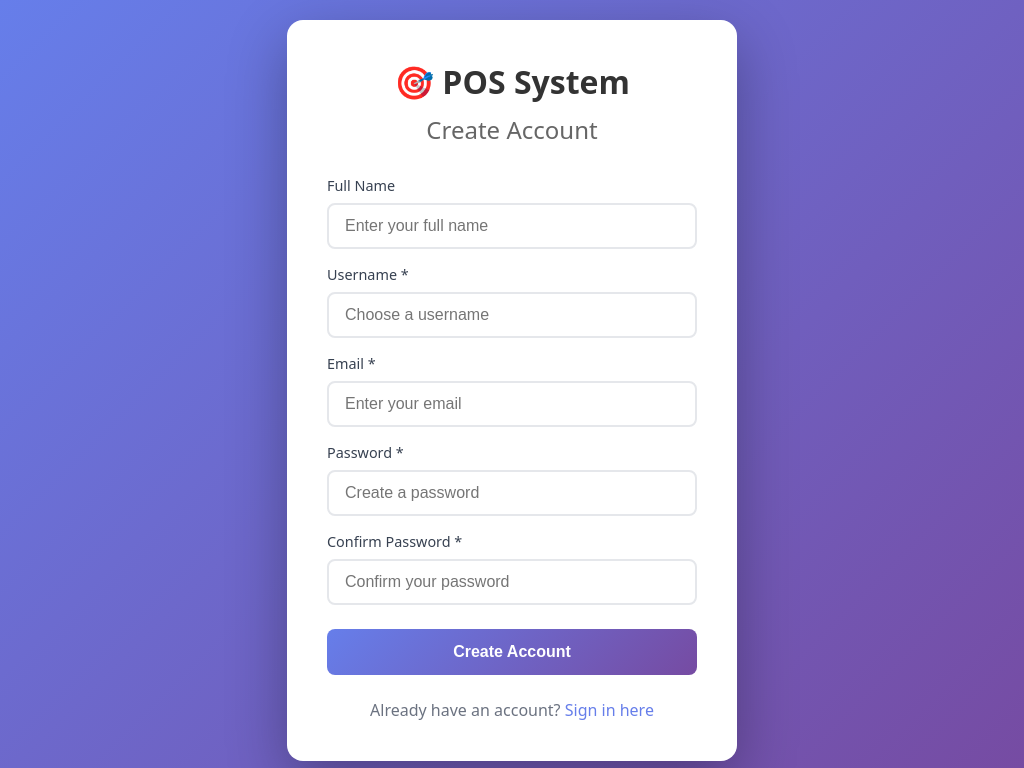
Test: Register Component › shows error when passwords do not match
The image size is (1024, 768).
Type "testuser" into the field with placeholder "Choose a username" at point(512, 315), box [327, 292, 697, 338]
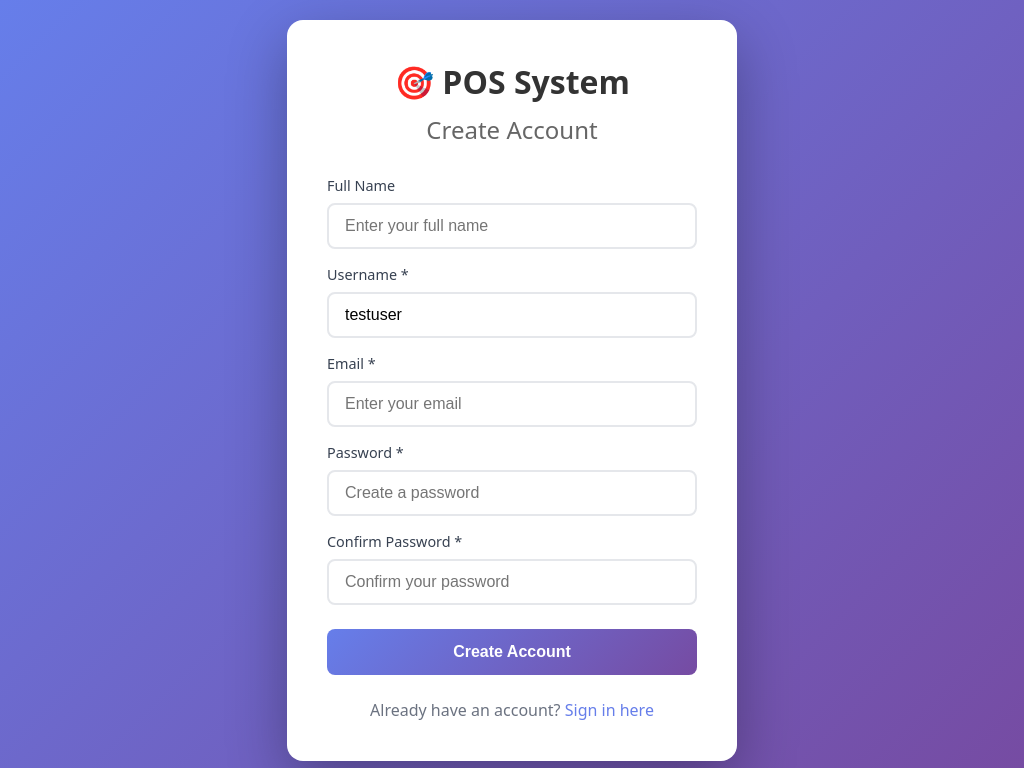
Type "test@example.com" into the field with placeholder "Enter your email" at point(512, 404), box [327, 381, 697, 427]
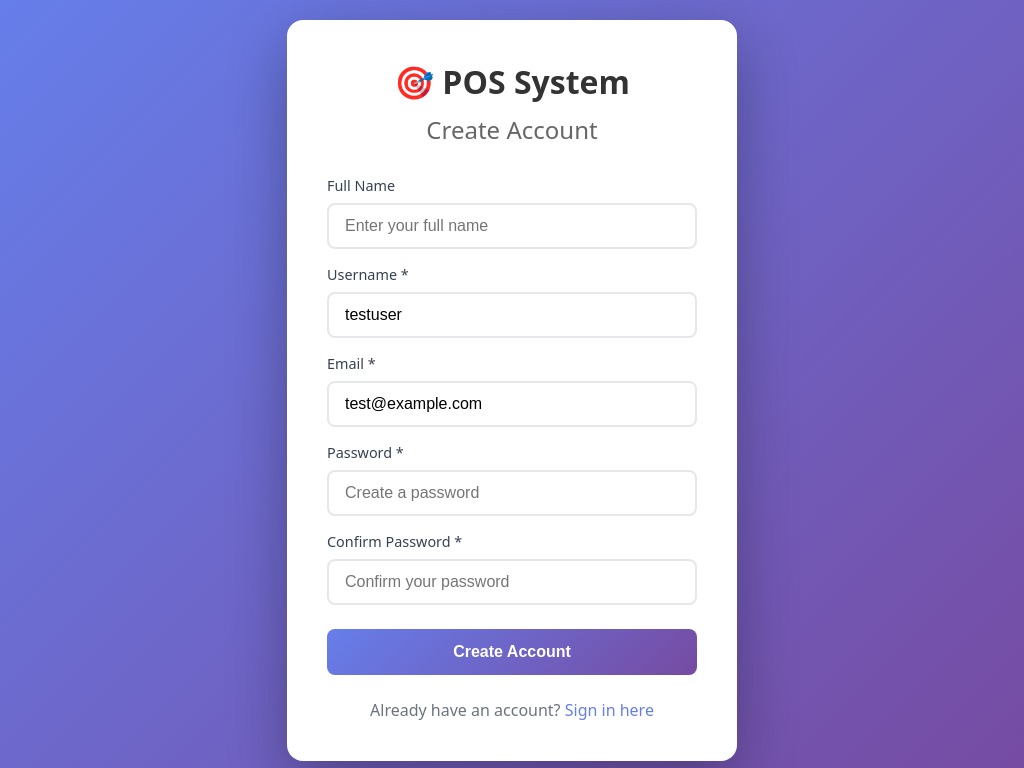
Type "password123" into the password field with placeholder "Create a password" at point(512, 493), box [327, 470, 697, 516]
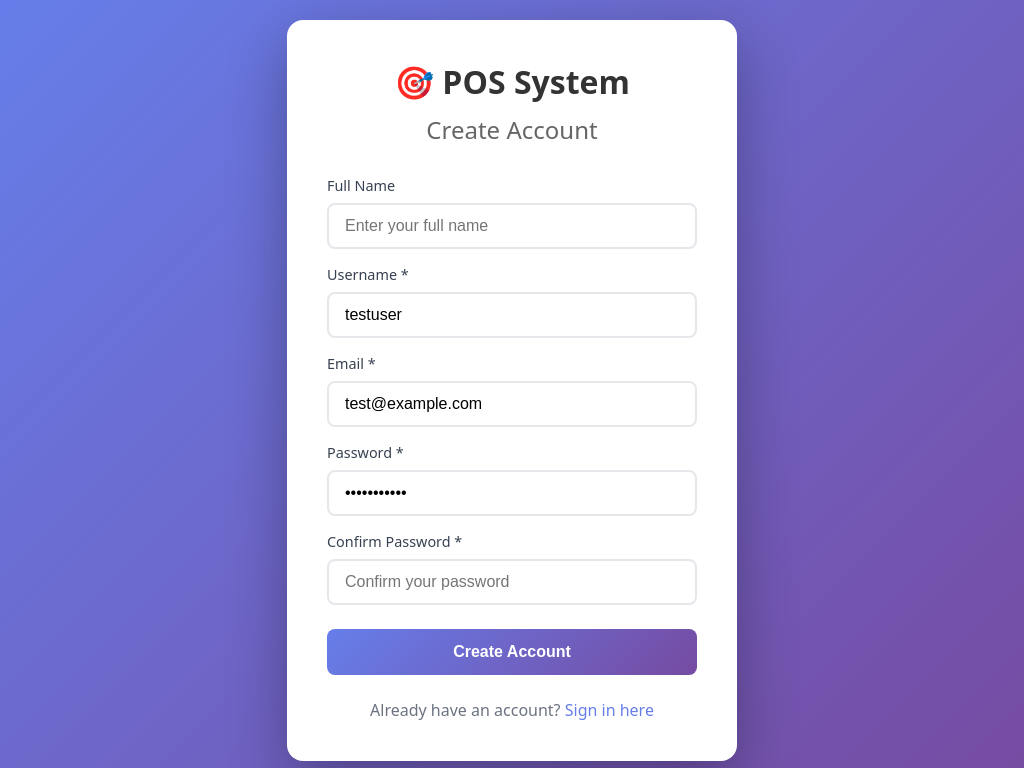
Type "differentpassword" into the password field with placeholder "Confirm your password" at point(512, 582), box [327, 559, 697, 605]
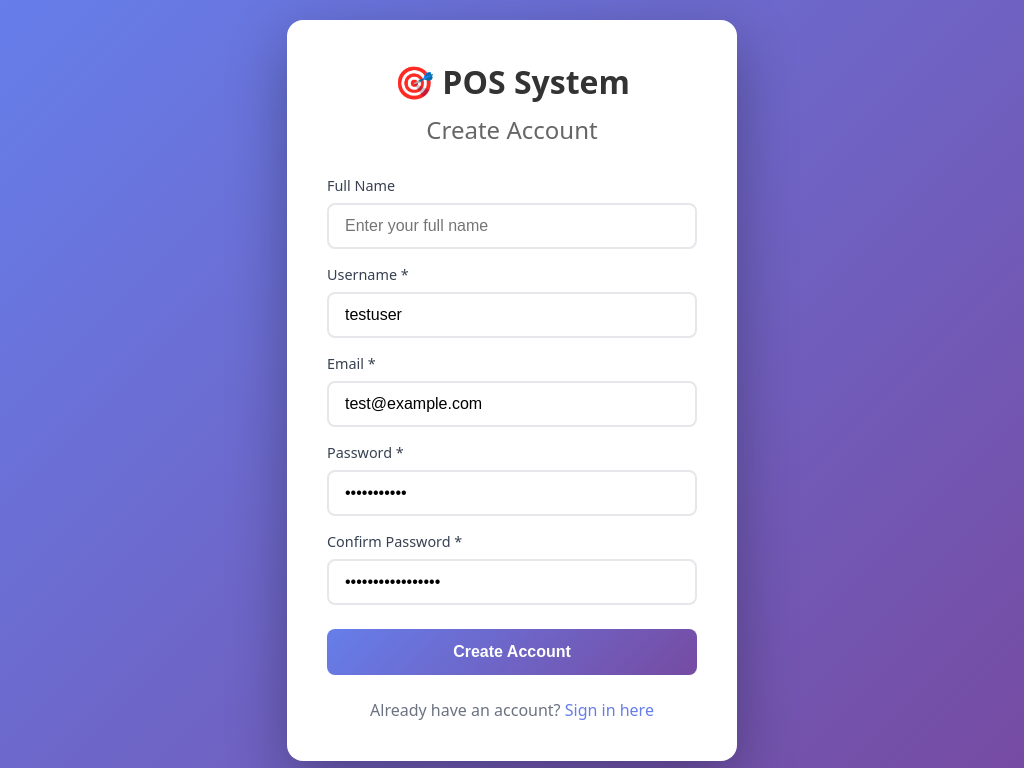
Click the button "Create Account" at point(512, 652), box [327, 629, 697, 675]
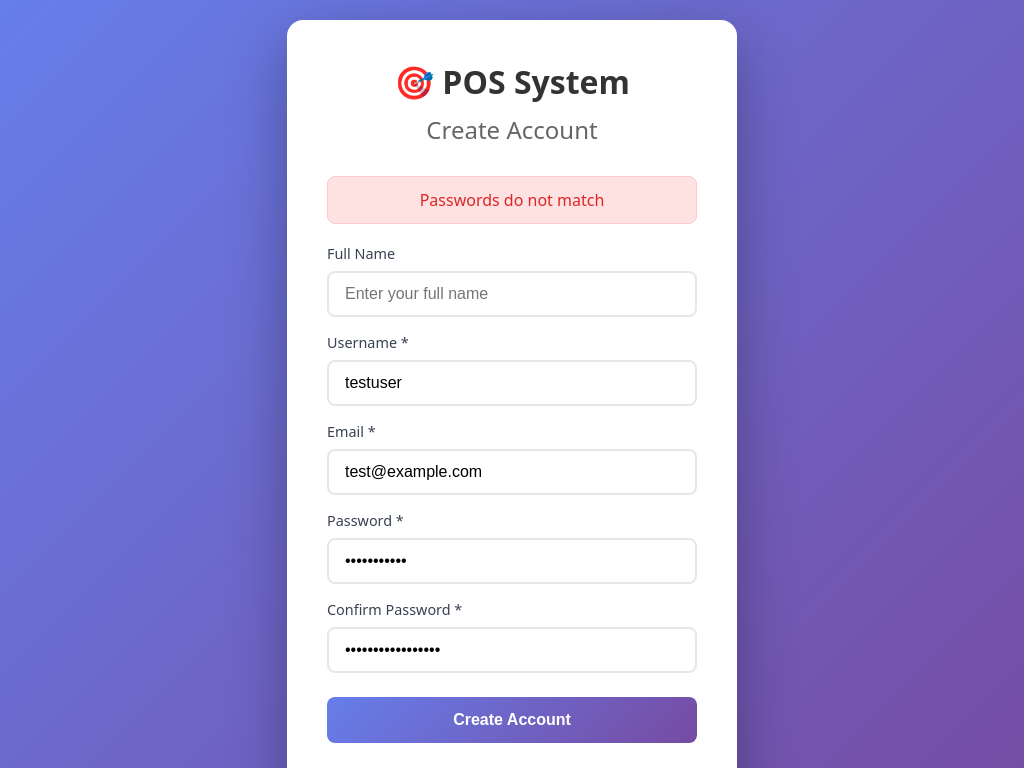
Expected: the text "Passwords do not match" is shown, [327, 176, 697, 224]
